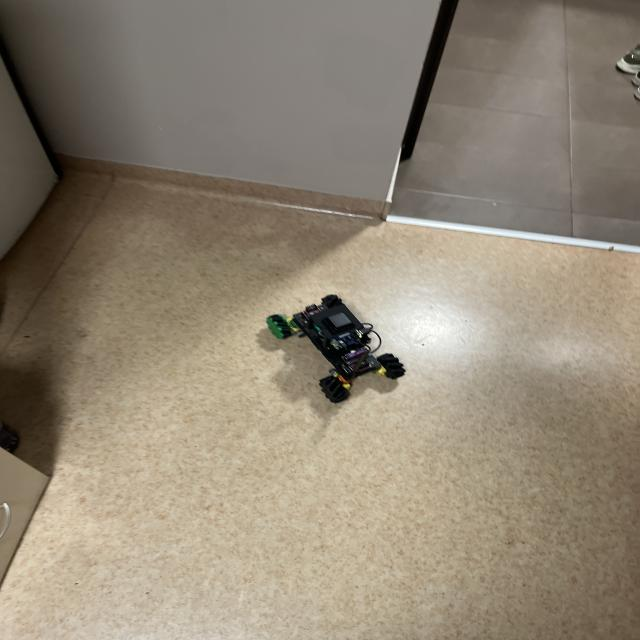robot: (266, 294, 405, 401)
